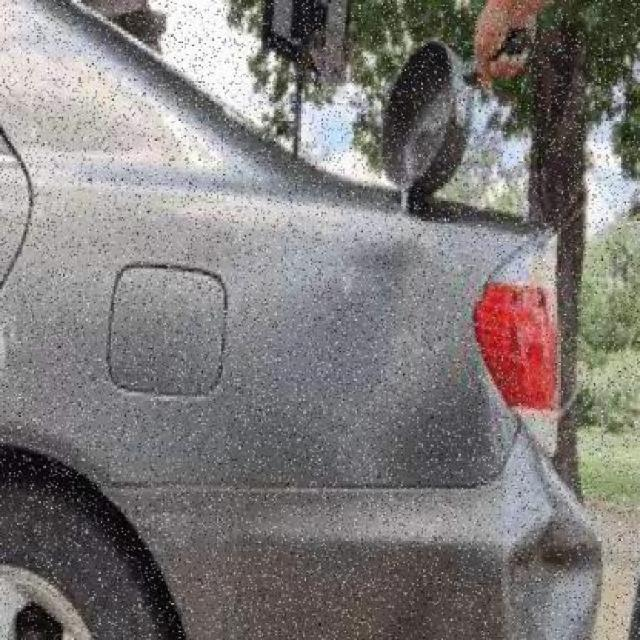quaterpanel-dent: (17, 192, 481, 536)
rear-bumper-dent: (345, 423, 629, 637)
